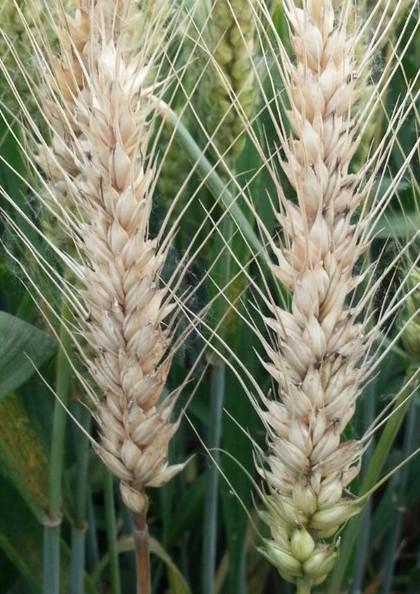Wheat scab: (251, 1, 388, 589), (73, 48, 200, 501)
